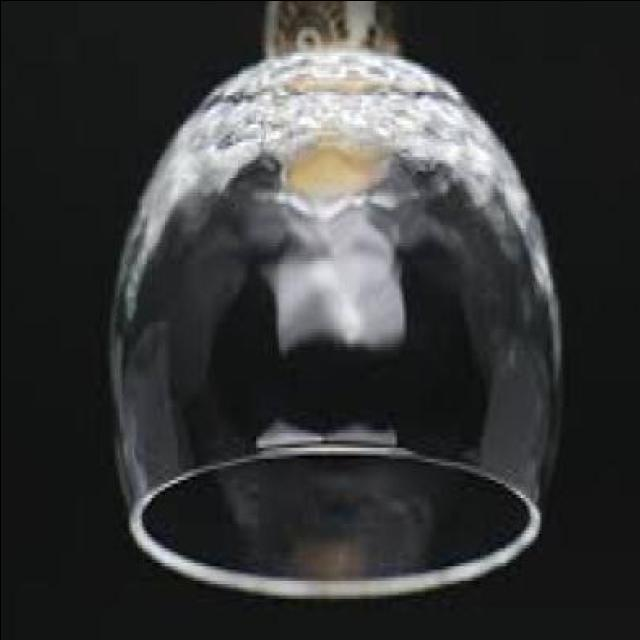kaca: (104, 0, 562, 605)
